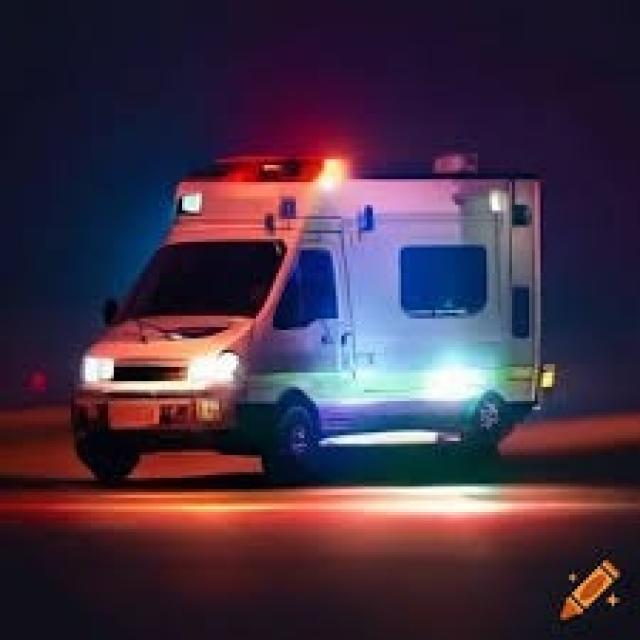ambulance: (51, 117, 614, 499)
